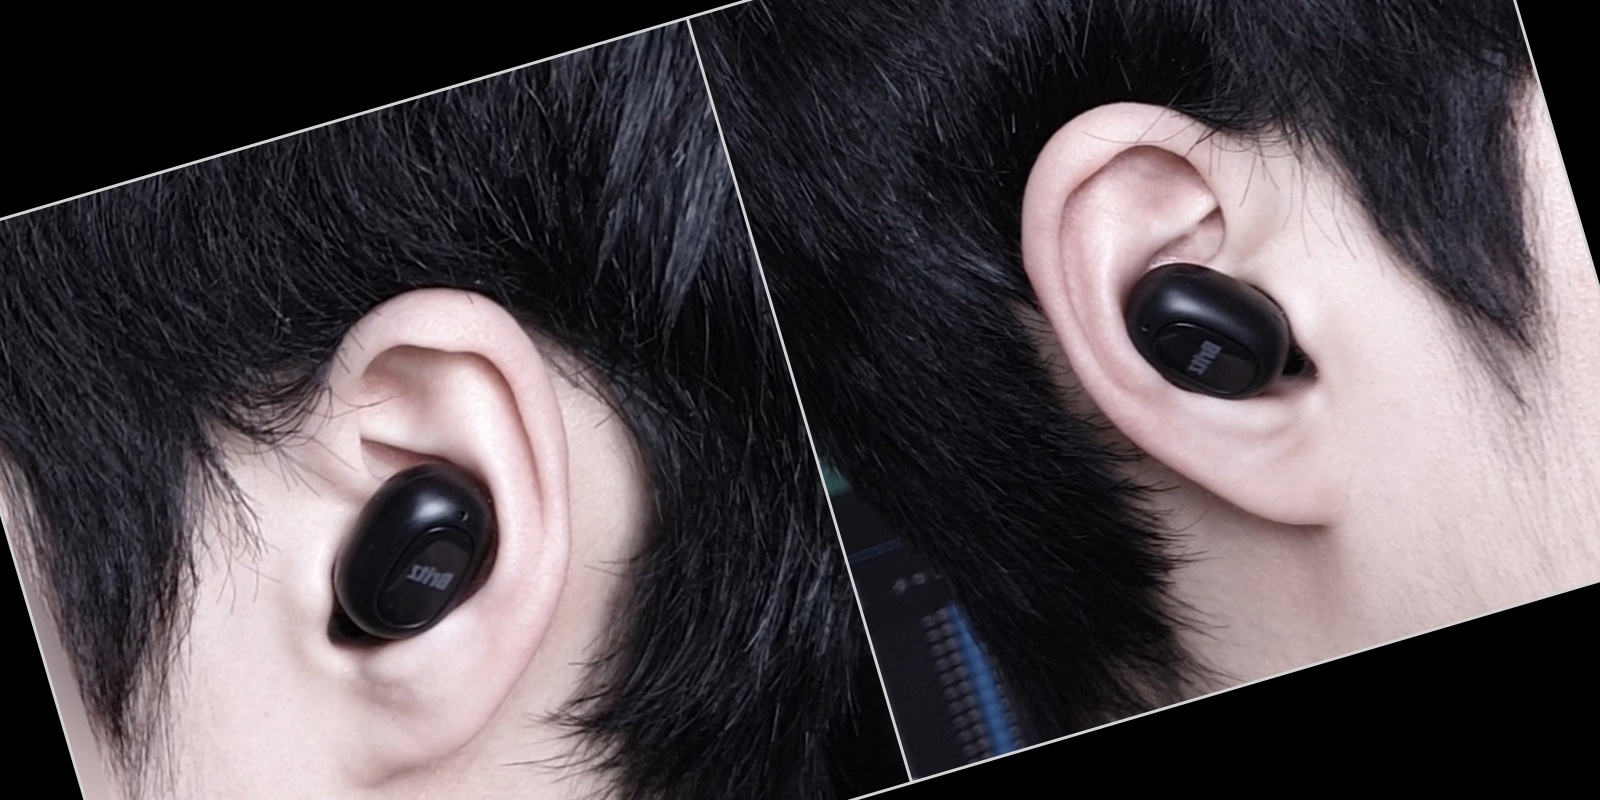earphone: (205, 260, 649, 793), (986, 59, 1387, 587)
